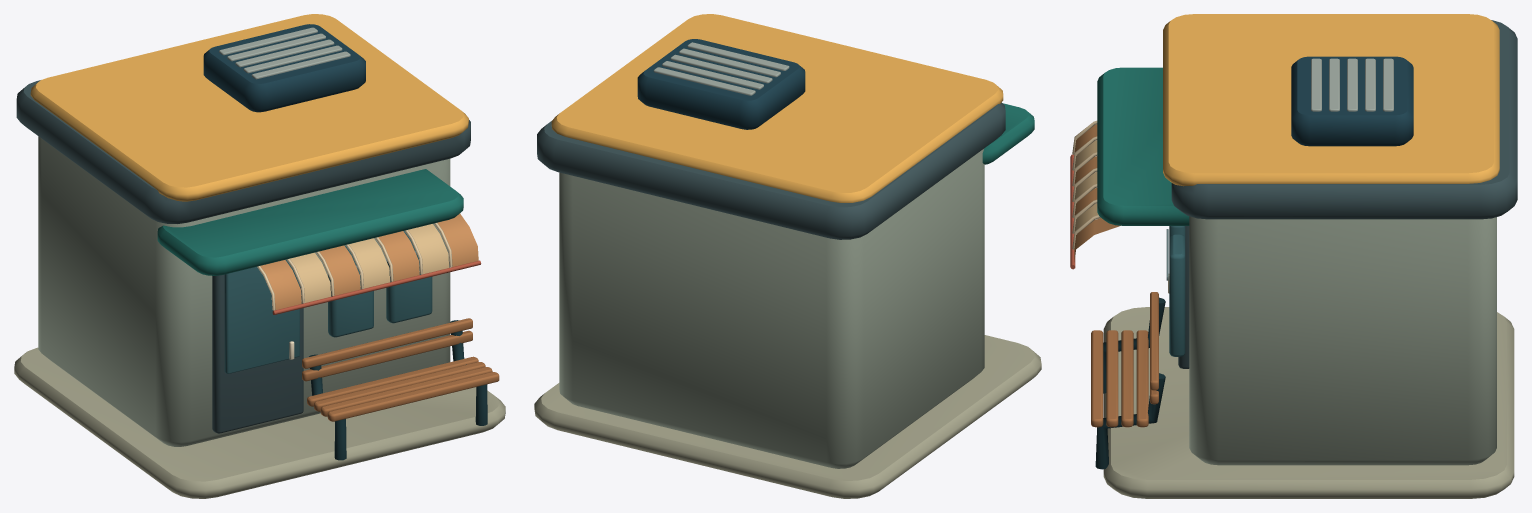
The model's file is freight_office.glb.
3 views of the same model, side by side, from view 1: azimuth 30°, elevation 25°; view 2: azimuth 150°, elevation 25°; view 3: azimuth 270°, elevation 25° (orthographic). The views are drawn at different scales.
Visible parts, largest first — view 1: freight_office; view 2: freight_office; view 3: freight_office.
Boxes of the visible parts, x1,y1,x2,y2 form: freight_office: [14, 14, 505, 498]; freight_office: [534, 14, 1041, 498]; freight_office: [1070, 14, 1517, 498].
Size of the model in its own units: 3.22 by 2.96 by 3.4.
